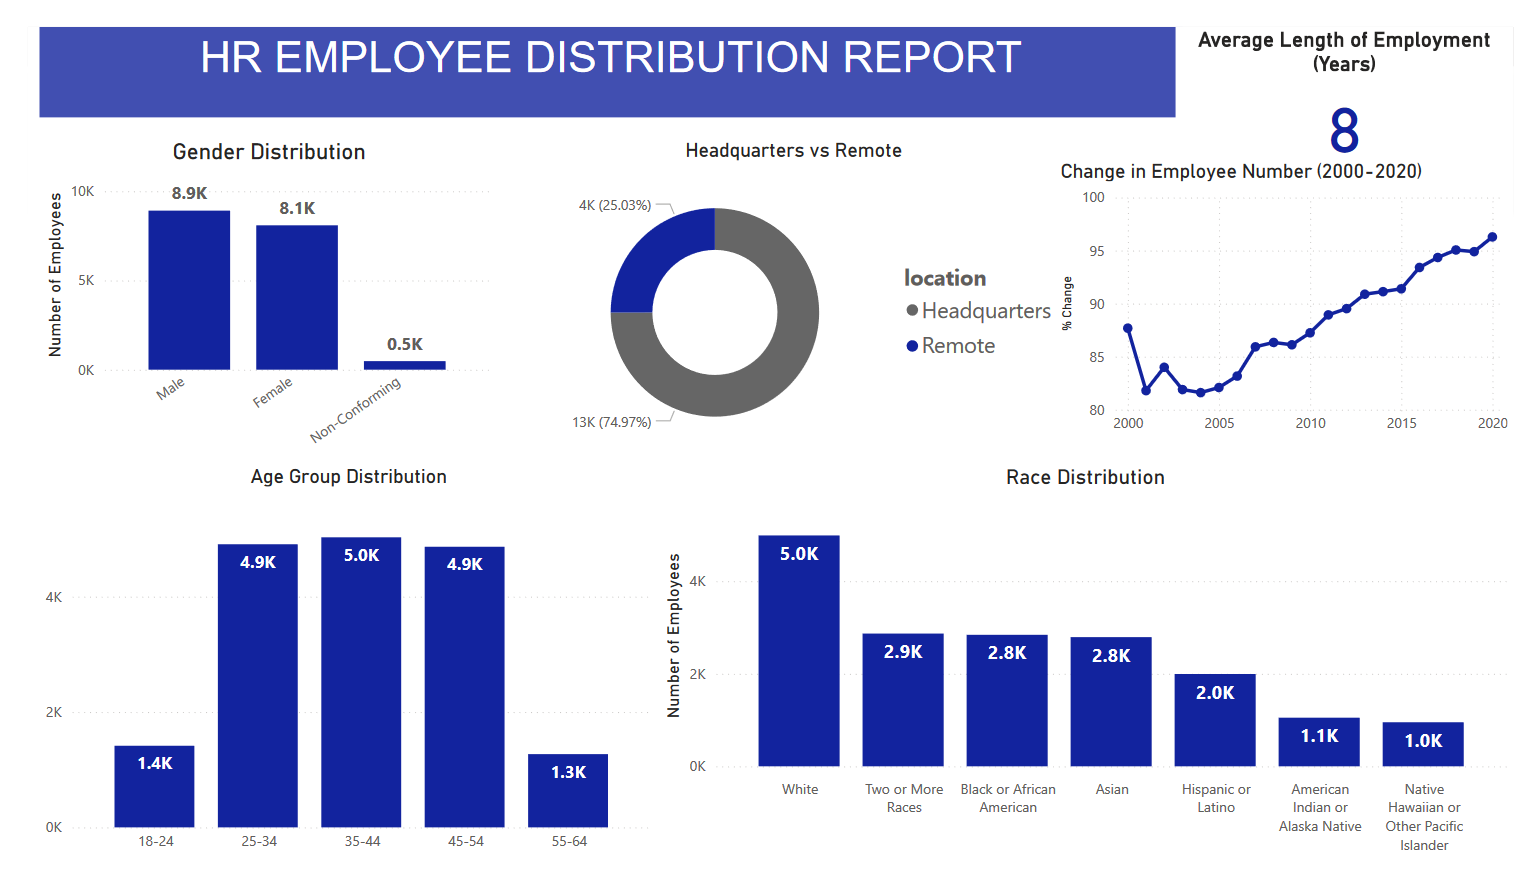

The page's visual inventory and layout, read from the dashboard file:
{"tool":"powerbi","page":{"name":"Page 1","canvas":[1280,720],"ordinal":0},"visuals":[{"type":"textbox","box":[10.2,0,984.8,78],"z":0},{"type":"card","title":"Average Length of Employment (Years)","fields":{"Values":["Sum(avg_length_employment.avg_length_employment)"]},"box":[989.4,0,290.9,122.1],"z":1000},{"type":"columnChart","title":"Gender Distribution","fields":{"Category":["gender.gender"],"Y":["Sum(gender.count)"]},"box":[9.6,96.1,396.6,281.3],"z":2000},{"type":"donutChart","title":"Headquarters vs Remote","fields":{"Category":["location.location"],"Y":["Sum(location.count)"]},"box":[424,96.1,472,281.3],"z":3000},{"type":"lineChart","title":"Change in Employee Number (2000-2020)","fields":{"Category":["change_overtime.year"],"Y":["Sum(change_overtime.net_change_percent)"]},"box":[885.1,113.9,395.2,245.6],"z":4000},{"type":"clusteredColumnChart","title":"Race Distribution","fields":{"Category":["race.race"],"Y":["Sum(race.count)"]},"box":[543.4,377.4,736.9,343.1],"z":5000},{"type":"columnChart","title":"Age Group Distribution","fields":{"Y":["Sum(age_group.count)"],"Category":["age_group.age_group"]},"box":[9.6,377.4,533.8,343.1],"z":6000}]}

Visuals, with their boxes in screenshot pixels (x1, y1, x2, y2), scaled from the page's 1280x720 canvas onto the 1540x882 screenshot:
textbox: box=[12, 0, 1197, 96]
"Average Length of Employment (Years)" card: box=[1190, 0, 1539, 150]
"Gender Distribution" columnChart: box=[12, 118, 489, 462]
"Headquarters vs Remote" donutChart: box=[510, 118, 1078, 462]
"Change in Employee Number (2000-2020)" lineChart: box=[1065, 140, 1539, 440]
"Race Distribution" clusteredColumnChart: box=[654, 462, 1539, 881]
"Age Group Distribution" columnChart: box=[12, 462, 654, 881]
